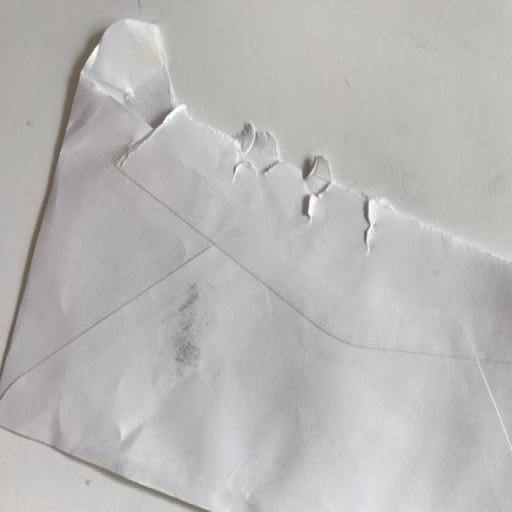Kertas: (0, 14, 512, 512)
